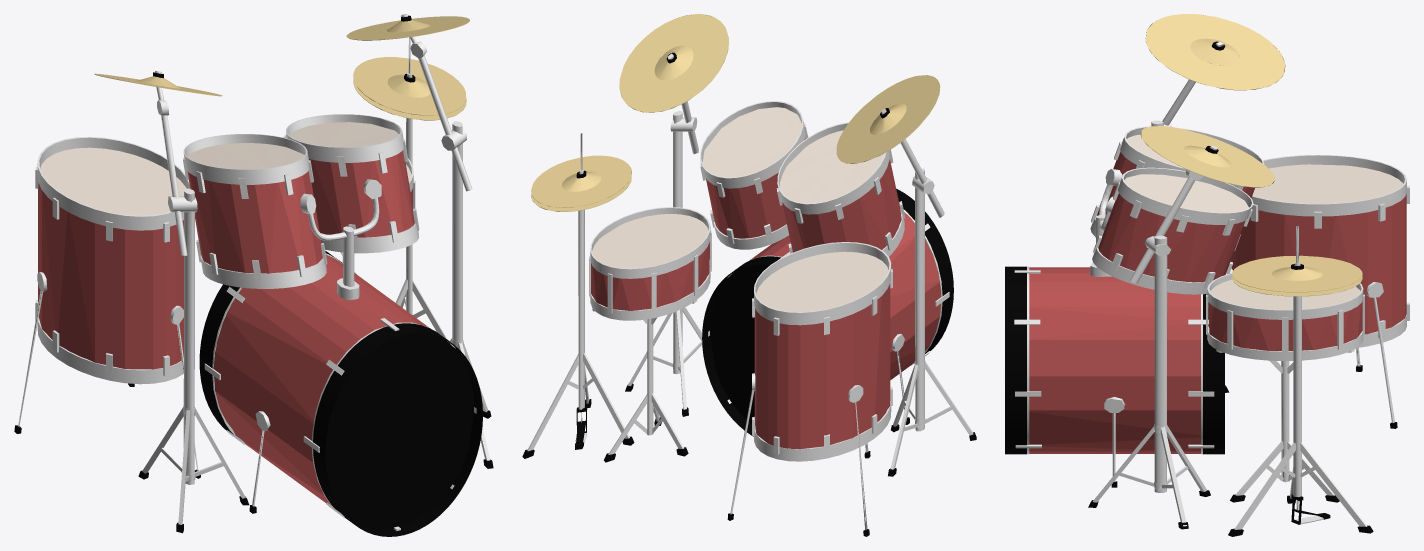
The model's file is sh-contrib-batterie.glb.
3 views of the same model, side by side, from view 1: azimuth 30°, elevation 25°; view 2: azimuth 150°, elevation 25°; view 3: azimuth 270°, elevation 25° (orthographic). The views are drawn at different scales.
Parts seen in each view (by area): view 1: Grosse_caisse, Contour_metal_devant, Grosse_caisse_derriere, Peau_bas, Contour_devant, Cymbale, Attache; view 2: Grosse_caisse, Contour_metal_devant, Peau_bas, Cymbale, Grosse_caisse_derriere, Attache, Contour_devant; view 3: Grosse_caisse, Contour_metal_devant, Cymbale, Peau_bas, Attache, Contour_devant, Grosse_caisse_derriere.
Part boxes in pixels (x1,y1,x2,y2): Grosse_caisse: [38, 150, 428, 519]; Contour_metal_devant: [18, 14, 490, 524]; Grosse_caisse_derriere: [14, 333, 493, 533]; Peau_bas: [40, 122, 411, 215]; Contour_devant: [153, 15, 482, 536]; Cymbale: [94, 16, 469, 120]; Attache: [35, 137, 476, 531]; Grosse_caisse: [591, 122, 941, 449]; Contour_metal_devant: [578, 53, 973, 530]; Peau_bas: [592, 107, 888, 311]; Cymbale: [531, 14, 940, 211]; Grosse_caisse_derriere: [522, 265, 976, 536]; Attache: [527, 123, 952, 454]; Contour_devant: [576, 52, 953, 436]; Grosse_caisse: [1029, 151, 1406, 453]; Contour_metal_devant: [1027, 42, 1406, 526]; Cymbale: [1140, 14, 1362, 296]; Peau_bas: [1124, 134, 1403, 309]; Attache: [1014, 142, 1409, 529]; Contour_devant: [1005, 41, 1303, 524]; Grosse_caisse_derriere: [1088, 365, 1397, 536].
Size of the model in its own units: 1 by 0.9999 by 1.
